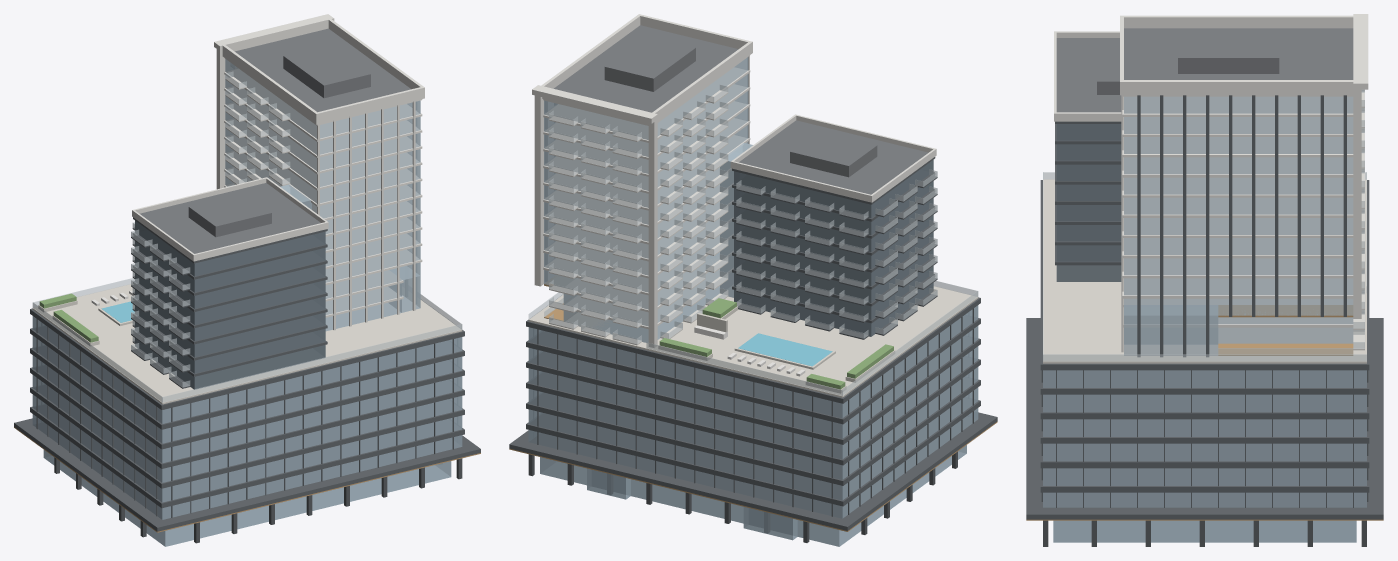
The picture shows the model from 3 angles, left to right: view 1: azimuth 30°, elevation 25°; view 2: azimuth 150°, elevation 25°; view 3: azimuth 270°, elevation 25°; orthographic projection. The views are drawn at different scales.
Visible parts, largest first — view 1: spandrel_dark, glass_podium, slab_light, glass_tower, glass_dark, roof_dark, deck_pale, railing_glass, column_dark, planter_green, wood; view 2: spandrel_dark, slab_light, glass_podium, glass_tower, railing_glass, glass_dark, roof_dark, deck_pale, planter_green, column_dark, pool_water, wood (+1 smaller); view 3: spandrel_dark, slab_light, glass_tower, glass_podium, roof_dark, deck_pale, glass_dark, railing_glass, wood, column_dark.
Boxes of the visible parts, <box> form: spandrel_dark: <box>14,217,480,531</box>; glass_podium: <box>32,316,462,546</box>; slab_light: <box>132,14,424,330</box>; glass_tower: <box>225,59,420,331</box>; glass_dark: <box>135,220,325,389</box>; roof_dark: <box>140,28,410,253</box>; deck_pale: <box>32,284,462,404</box>; railing_glass: <box>32,71,462,402</box>; column_dark: <box>54,457,462,543</box>; planter_green: <box>39,293,98,342</box>; wood: <box>14,427,480,532</box>; spandrel_dark: <box>509,157,997,530</box>; slab_light: <box>532,14,936,347</box>; glass_podium: <box>528,305,978,546</box>; glass_tower: <box>544,57,752,342</box>; railing_glass: <box>528,84,978,395</box>; glass_dark: <box>734,160,933,336</box>; roof_dark: <box>554,25,928,194</box>; deck_pale: <box>528,276,978,397</box>; planter_green: <box>659,298,893,389</box>; column_dark: <box>528,451,957,542</box>; pool_water: <box>738,333,832,366</box>; wood: <box>509,281,997,531</box>; spandrel_dark: <box>1026,95,1383,519</box>; slab_light: <box>1054,14,1368,352</box>; glass_tower: <box>1124,96,1353,355</box>; glass_podium: <box>1043,370,1366,542</box>; roof_dark: <box>1056,28,1353,112</box>; deck_pale: <box>1043,179,1366,363</box>; glass_dark: <box>1056,124,1121,281</box>; railing_glass: <box>1043,89,1366,361</box>; wood: <box>1026,305,1383,520</box>; column_dark: <box>1043,520,1366,546</box>.
Size of the model in its own units: 69 by 76.2 by 53.
